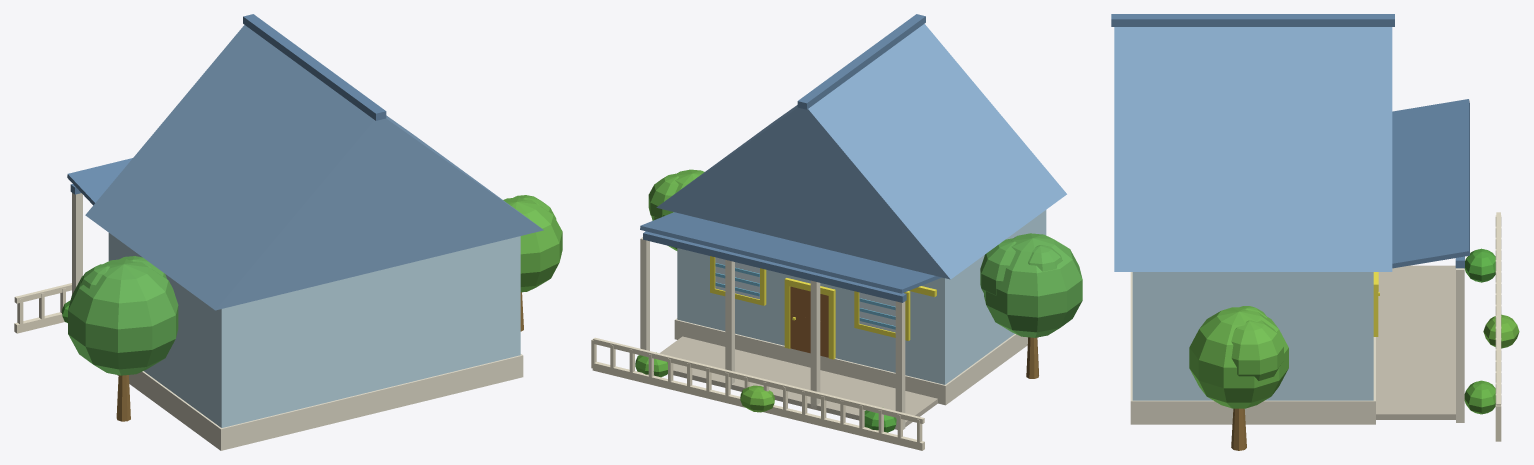
The model's file is casaAzulFinalTablero.glb.
3 views of the same model, side by side, from view 1: azimuth 30°, elevation 25°; view 2: azimuth 150°, elevation 25°; view 3: azimuth 270°, elevation 25° (orthographic). The views are drawn at different scales.
Visible parts, largest first — view 1: V_TechZinc, V_Cuerpo, cpV10, V_Zocalo, cpV20, V_TechZinc_cumb, techo_corr_V, col_V_0, trV1, V_CercaBase; view 2: V_TechZinc, V_Cuerpo, techo_corr_V, corr_piso_V, cpV10, V_Zocalo, V_CercaBase, viga_V, V_CercaTop, V_TechZinc_cumb, col_V_1, col_V_0 (+12 smaller); view 3: V_TechZinc, V_Cuerpo, techo_corr_V, corr_piso_V, V_Zocalo, cpV20, V_TechZinc_cumb, cpV21, col_V_3, V_CercaTop, pln_V1, pln_V0 (+2 smaller).
Part boxes in pixels (x1=…): V_TechZinc: x1=85, y1=25, x2=543, y2=310; V_Cuerpo: x1=108, y1=233, x2=520, y2=427; cpV10: x1=68, y1=259, x2=178, y2=375; V_Zocalo: x1=117, y1=354, x2=523, y2=450; cpV20: x1=503, y1=197, x2=562, y2=292; V_TechZinc_cumb: x1=243, y1=14, x2=386, y2=120; techo_corr_V: x1=67, y1=158, x2=132, y2=205; col_V_0: x1=72, y1=193, x2=82, y2=294; trV1: x1=116, y1=375, x2=130, y2=421; V_CercaBase: x1=14, y1=312, x2=64, y2=333; V_TechZinc: x1=656, y1=24, x2=1066, y2=279; V_Cuerpo: x1=677, y1=210, x2=1046, y2=384; techo_corr_V: x1=640, y1=212, x2=941, y2=293; corr_piso_V: x1=660, y1=336, x2=937, y2=429; cpV10: x1=984, y1=233, x2=1082, y2=337; V_Zocalo: x1=674, y1=318, x2=1038, y2=405; V_CercaBase: x1=592, y1=361, x2=924, y2=450; viga_V: x1=643, y1=231, x2=906, y2=302; V_CercaTop: x1=593, y1=337, x2=924, y2=423; V_TechZinc_cumb: x1=797, y1=14, x2=925, y2=109; col_V_1: x1=810, y1=280, x2=820, y2=409; col_V_0: x1=895, y1=301, x2=905, y2=429; V_TechZinc: x1=1114, y1=27, x2=1392, y2=271; V_Cuerpo: x1=1132, y1=272, x2=1373, y2=400; techo_corr_V: x1=1392, y1=99, x2=1469, y2=268; corr_piso_V: x1=1376, y1=265, x2=1455, y2=419; V_Zocalo: x1=1130, y1=272, x2=1375, y2=424; cpV20: x1=1189, y1=307, x2=1288, y2=408; V_TechZinc_cumb: x1=1111, y1=14, x2=1394, y2=26; cpV21: x1=1231, y1=320, x2=1283, y2=380; col_V_3: x1=1456, y1=268, x2=1464, y2=422; V_CercaTop: x1=1496, y1=212, x2=1500, y2=405; pln_V1: x1=1464, y1=380, x2=1495, y2=414; pln_V0: x1=1464, y1=248, x2=1495, y2=282.
Bounding box in the file's own units: 20.55 × 12.8 × 14.39.
